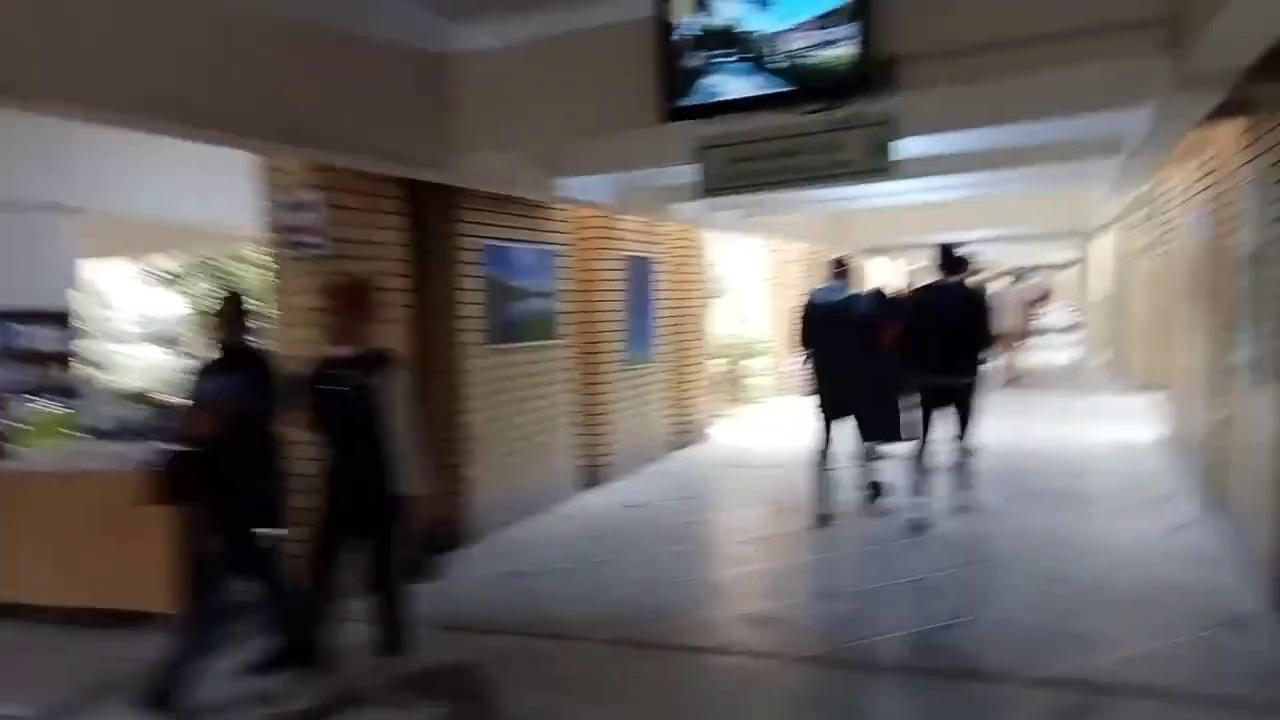person: (135, 291, 298, 714), (297, 271, 436, 667), (800, 255, 896, 467), (900, 247, 992, 460)
tree: (64, 239, 281, 440), (138, 239, 281, 341), (704, 332, 774, 402)
